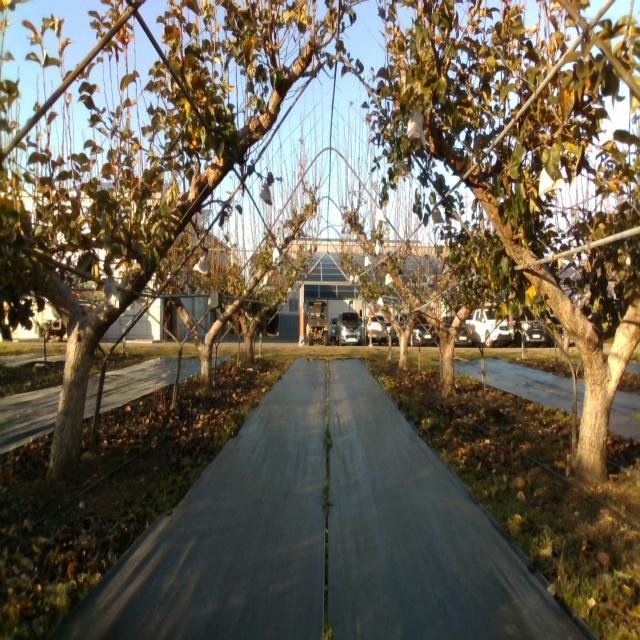pearbags: (539, 163, 565, 195), (407, 110, 429, 146), (103, 277, 120, 312), (193, 254, 208, 276), (260, 180, 272, 205)
